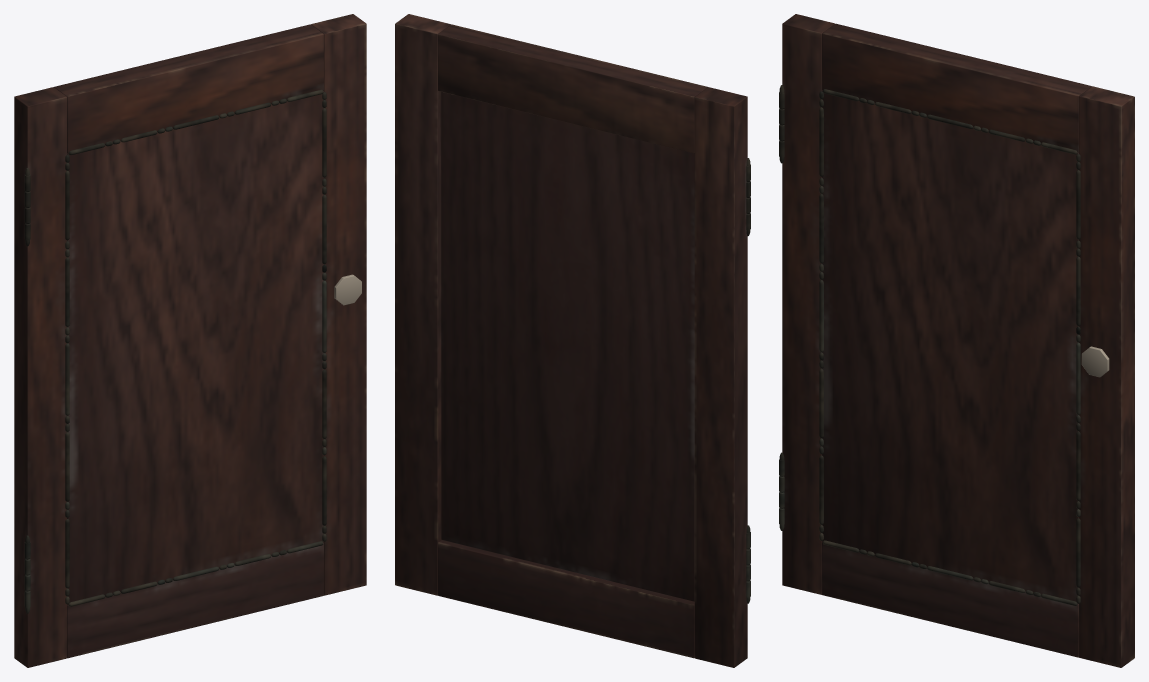
Rendered from SM_Cabinet243_doorL.fbx.
The picture shows the model from 3 angles, left to right: view 1: azimuth 30°, elevation 25°; view 2: azimuth 150°, elevation 25°; view 3: azimuth 330°, elevation 25°; orthographic projection.
Visible parts, largest first — view 1: SM_Cabinet243_doorL; view 2: SM_Cabinet243_doorL; view 3: SM_Cabinet243_doorL.
Part boxes in pixels (bbox=[...]): SM_Cabinet243_doorL: bbox=[14, 14, 366, 667]; SM_Cabinet243_doorL: bbox=[395, 14, 750, 667]; SM_Cabinet243_doorL: bbox=[779, 14, 1134, 667].
Size of the model in its own units: 35.53 by 55.79 by 3.28.
